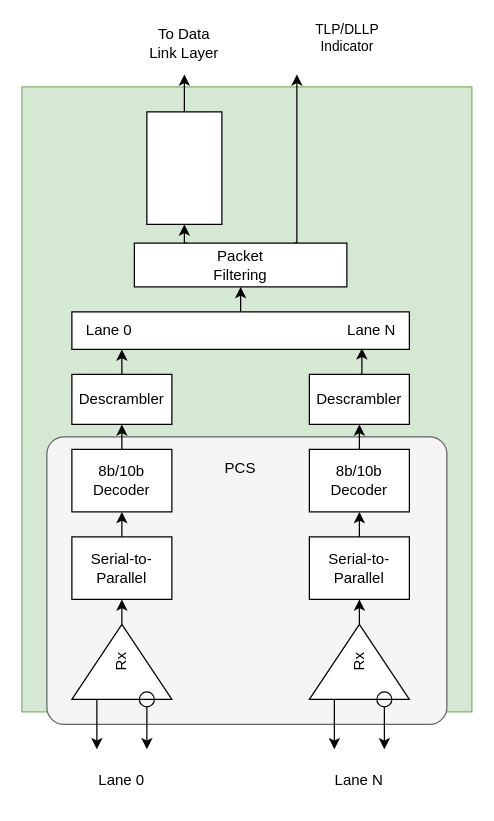
The diagram is 494 pixels wide and 821 high, and some of its shapes have lost their labels. Here are the shapes that lost their labels. From the top down, the box of each, then its label:
(146, 111, 222, 224): Rx Buffer
(71, 311, 409, 349): Byte Un-striping
